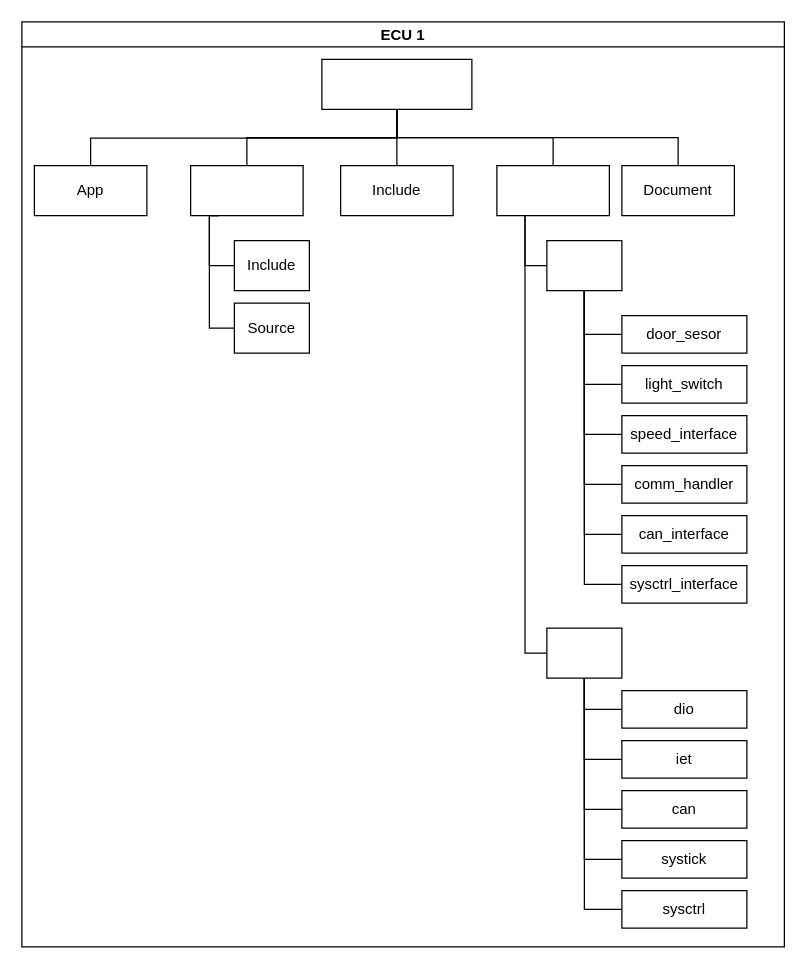
This 806x969 diagram has some shape labels left out. Here are the shapes that lost their labels. From the top down, the centre of each, then its label:
point (396, 83): Project Folder
point (246, 190): RTOS
point (552, 190): Driver
point (584, 265): board
point (584, 652): mcal
